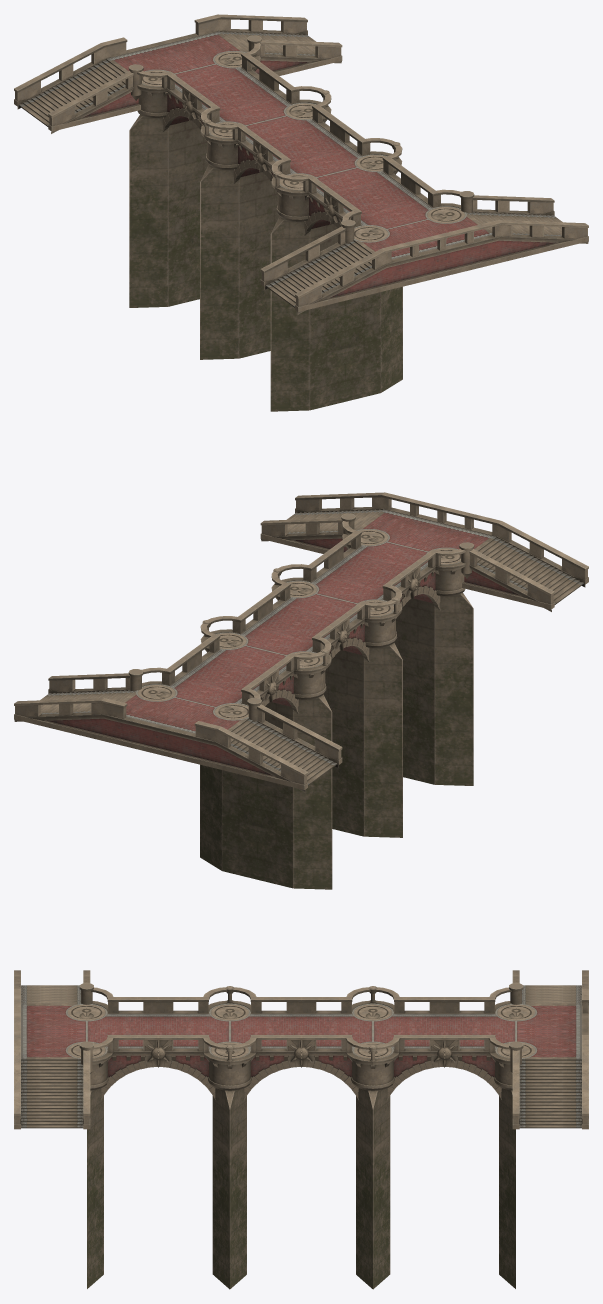
Rendered from t1_b_stone_bridge.glb.
The picture shows the model from 3 angles, top to bottom: view 1: azimuth 30°, elevation 25°; view 2: azimuth 150°, elevation 25°; view 3: azimuth 270°, elevation 25°; orthographic projection.
Visible parts, largest first — view 1: um_t1_b_stone_bridge_model_t1_b_stone_bridge_modelShape; view 2: um_t1_b_stone_bridge_model_t1_b_stone_bridge_modelShape; view 3: um_t1_b_stone_bridge_model_t1_b_stone_bridge_modelShape.
Boxes of the visible parts, x1,y1,x2,y2 form: um_t1_b_stone_bridge_model_t1_b_stone_bridge_modelShape: [14, 14, 588, 411]; um_t1_b_stone_bridge_model_t1_b_stone_bridge_modelShape: [14, 492, 588, 889]; um_t1_b_stone_bridge_model_t1_b_stone_bridge_modelShape: [14, 970, 588, 1289].
Bounding box in the file's own units: 26.08 × 20.49 × 44.2.
1 material, 1 textured.
